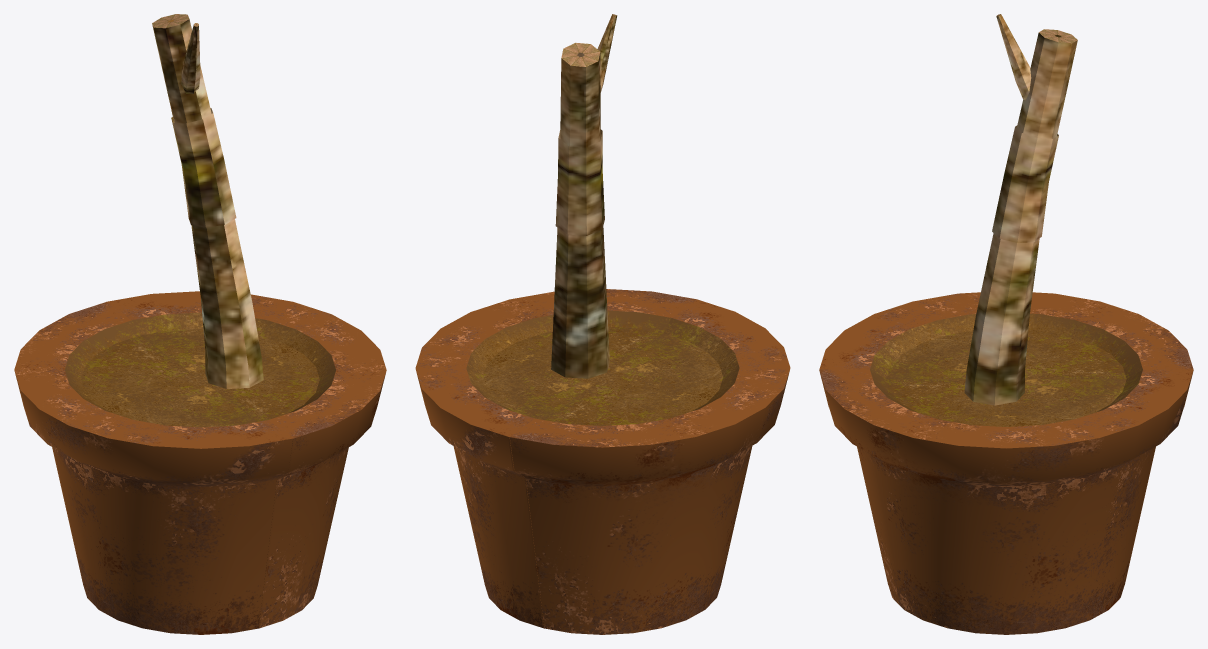
Rendered from grafting.fbx.
The picture shows the model from 3 angles, left to right: view 1: azimuth 30°, elevation 25°; view 2: azimuth 150°, elevation 25°; view 3: azimuth 270°, elevation 25°; orthographic projection.
Parts seen in each view (by area): view 1: Pot_1, polySurface12, polySurface10, polySurface13, polySurface15; view 2: Pot_1, polySurface12, polySurface10, polySurface13, polySurface15; view 3: Pot_1, polySurface12, polySurface10, polySurface13, polySurface15.
Boxes of the visible parts, x1,y1,x2,y2 form: Pot_1: (14,291,386,634); polySurface12: (191,219,263,388); polySurface10: (171,108,236,227); polySurface13: (152,14,211,123); polySurface15: (181,23,200,93); Pot_1: (415,289,790,634); polySurface12: (551,227,609,378); polySurface10: (555,129,604,235); polySurface13: (560,42,600,147); polySurface15: (597,14,617,92); Pot_1: (819,292,1193,634); polySurface12: (964,233,1039,405); polySurface10: (992,125,1058,242); polySurface13: (1016,29,1077,138); polySurface15: (996,14,1031,100).
Bounding box in the file's own units: 31.6 × 53.03 × 31.74.
3 materials, 3 textured.
